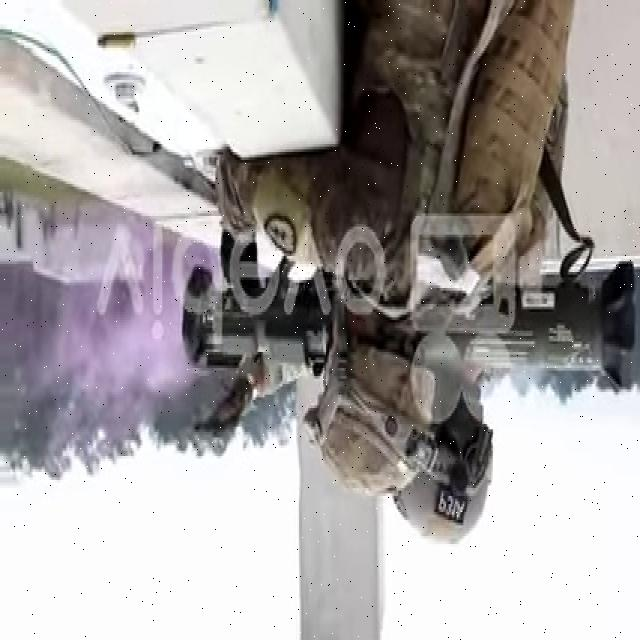bazooka: (173, 240, 640, 387)
